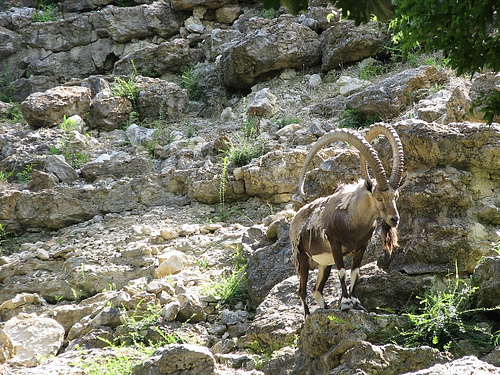goat: (288, 121, 405, 318)
